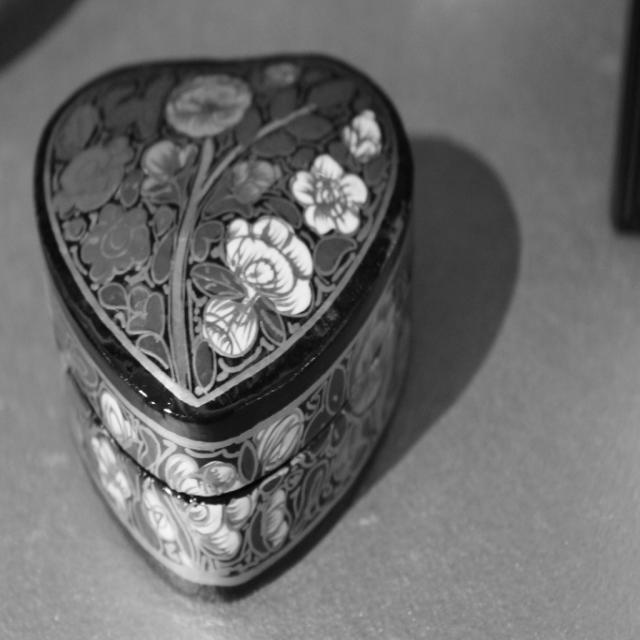Box: (33, 51, 415, 603)
